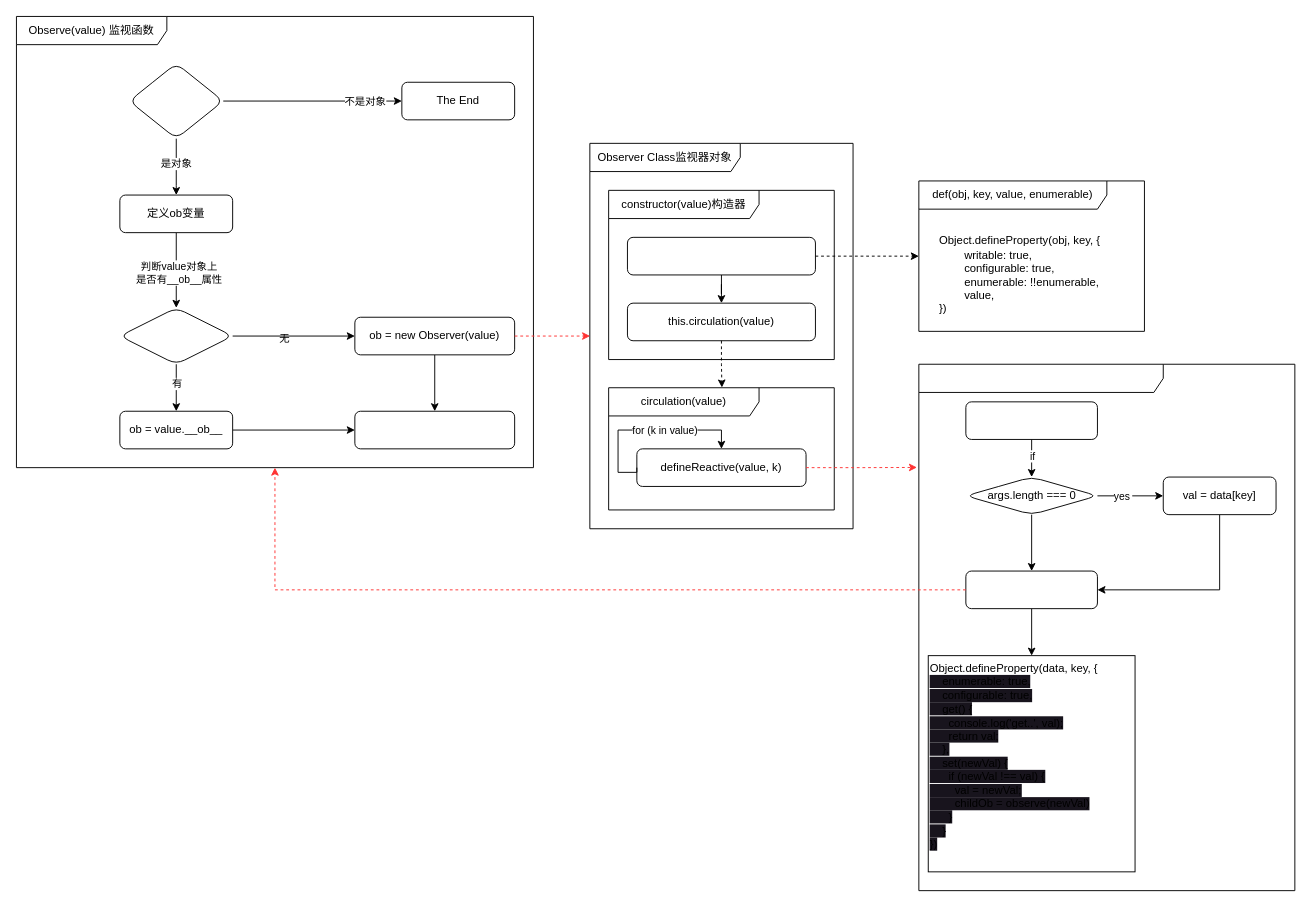
The diagram is 1311 pixels wide and 907 high, and some of its shapes have lost their labels. The shapes that lost their labels are listed below. From the top down, each one's box as (x1, y1, x2, y2) in pixels, then its label:
(128, 63, 223, 139): 判断value是否是对象 Object.prototype.toString.call(value) !== [object Object]
(627, 236, 815, 275): def(value, '__ob__', this, false)
(119, 307, 233, 364): value.__ob__
(354, 410, 515, 449): return ob
(965, 401, 1097, 439): 定义val为args的第一项 val = args[0]
(965, 570, 1097, 609): 监听val，看是否是对象 childObj = observe(val)
(918, 363, 1295, 891): defineReactive(data, key, ...args)
